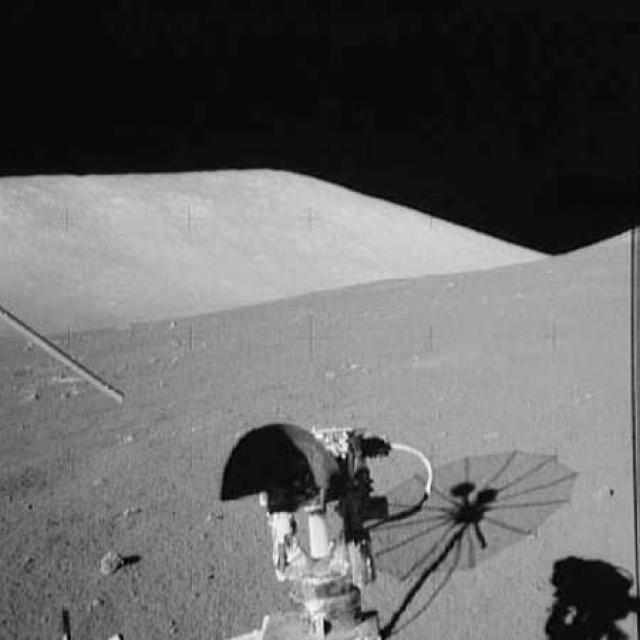artifact: (209, 412, 437, 638), (0, 304, 128, 412)
rock: (94, 548, 130, 580)
